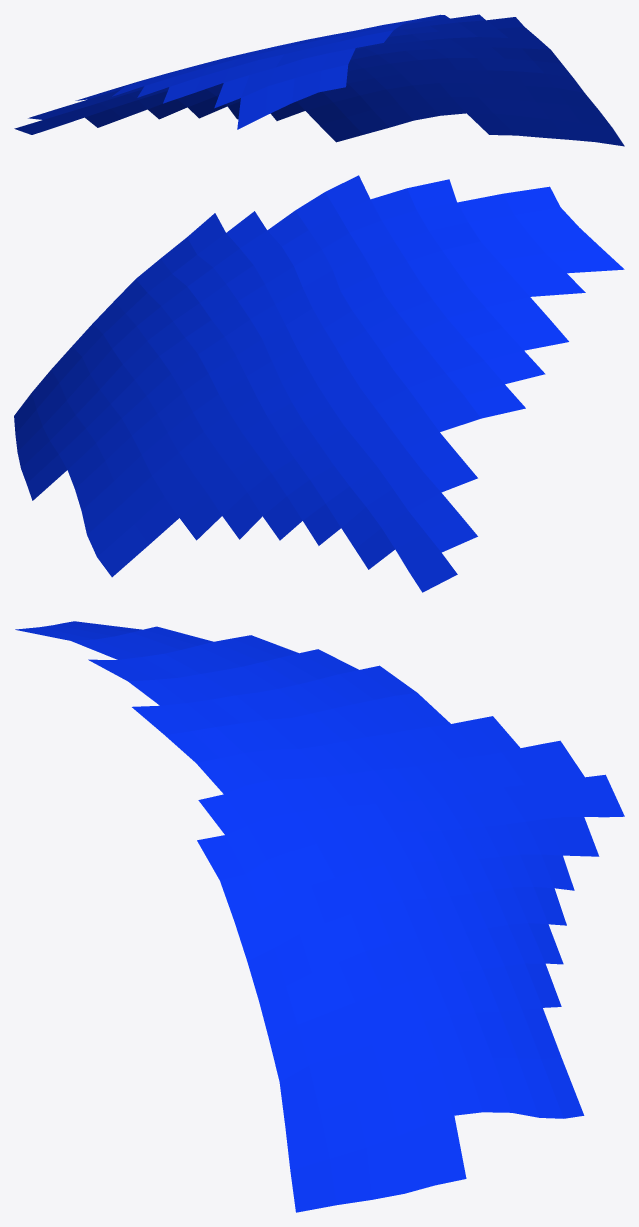
The model's file is Sph_inv_2_2_Remeshed.obj.
The picture shows the model from 3 angles, top to bottom: view 1: azimuth 30°, elevation 25°; view 2: azimuth 150°, elevation 25°; view 3: azimuth 270°, elevation 25°; orthographic projection. The views are drawn at different scales.
Parts seen in each view (by area): view 1: Sph_inv_2_2_Remeshed.002; view 2: Sph_inv_2_2_Remeshed.002; view 3: Sph_inv_2_2_Remeshed.002.
Boxes of the visible parts, x1,y1,x2,y2 form: Sph_inv_2_2_Remeshed.002: (14, 14, 624, 146); Sph_inv_2_2_Remeshed.002: (14, 175, 624, 592); Sph_inv_2_2_Remeshed.002: (15, 621, 624, 1212).
Size of the model in its own units: 0.9477 by 0.4617 by 0.6946.
